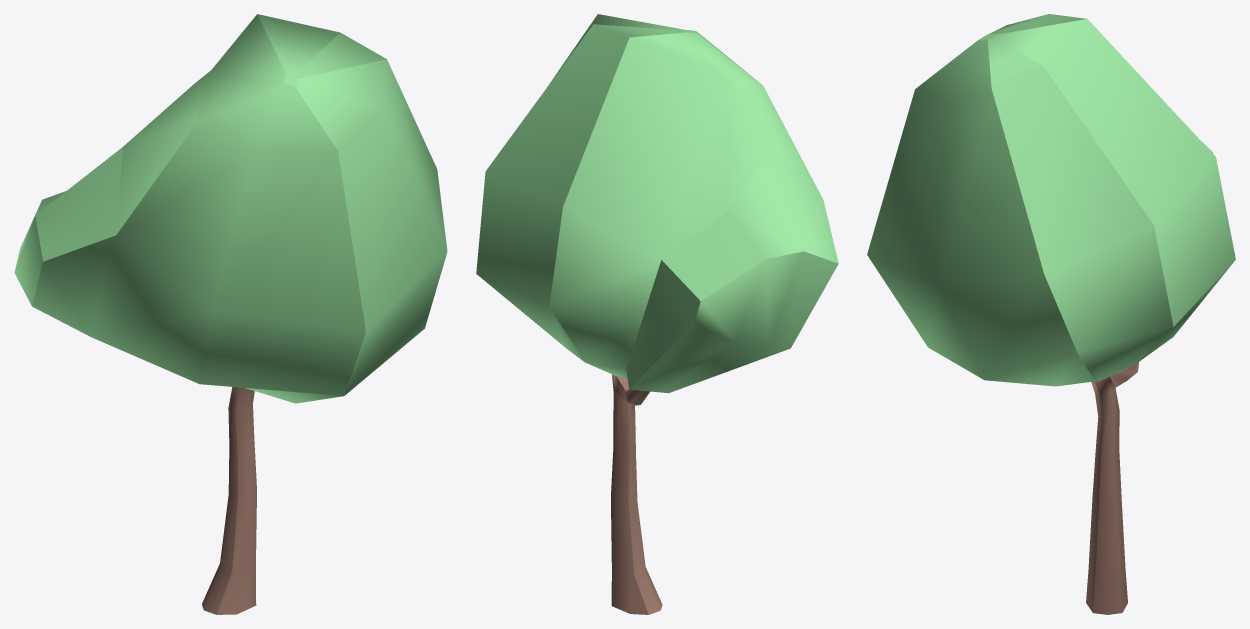
The model's file is tree6.fbx.
The picture shows the model from 3 angles, left to right: view 1: azimuth 30°, elevation 25°; view 2: azimuth 150°, elevation 25°; view 3: azimuth 270°, elevation 25°; orthographic projection. The views are drawn at different scales.
Parts seen in each view (by area): view 1: tree6; view 2: tree6; view 3: tree6.
Boxes of the visible parts, x1,y1,x2,y2 form: tree6: (14,14,447,614); tree6: (476,14,838,614); tree6: (867,14,1235,614).
Bounding box in the file's own units: 34.91 × 52.64 × 29.61.
